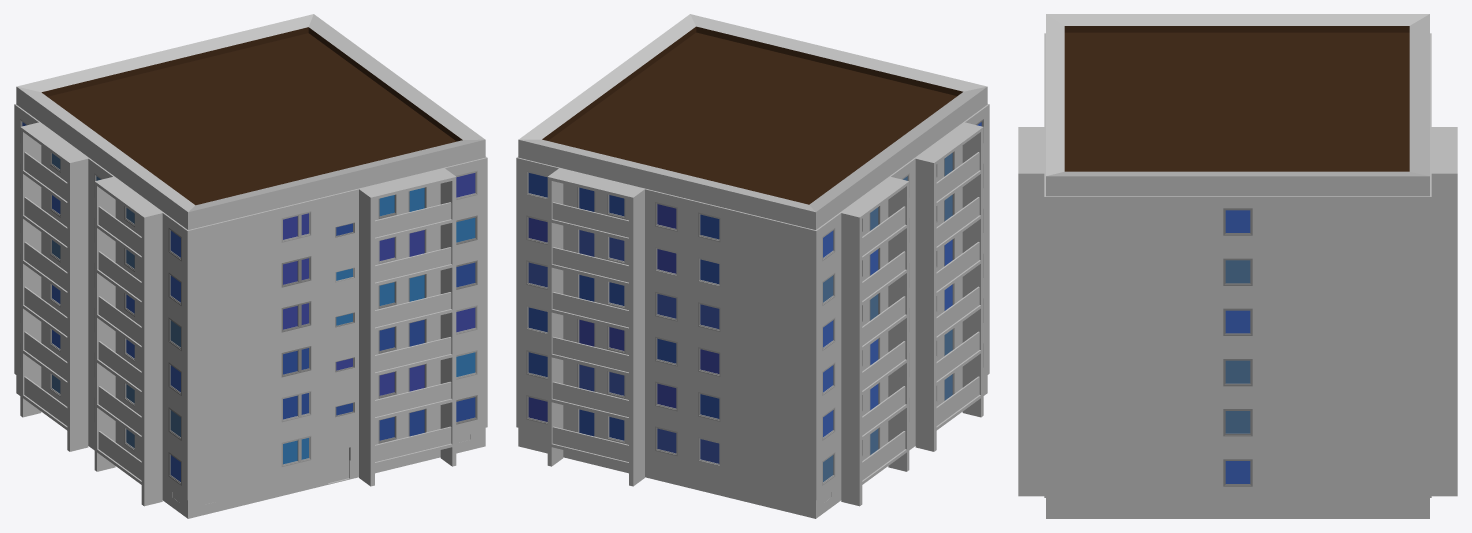
File: town3.obj
3 renders of one model, left to right at view 1: azimuth 30°, elevation 25°; view 2: azimuth 150°, elevation 25°; view 3: azimuth 270°, elevation 25°, orthographic. The views are drawn at different scales.
Parts seen in each view (by area): view 1: Dach1, F-Platte, L-Balkons, F-Platte2, F-Balkon, L-Blech-Ba, Dach2, L-Platte, Bruestung, Oben, L-Platte2, F-glas2 (+16 smaller); view 2: Dach1, B-Platte, L-Balkons, B-Platte2, B-Balkon, L-Blech-Ba, Dach2, Bruestung, L-Platte2, Oben, L-Platte, B-Glas3 (+15 smaller); view 3: R-Platte3, R-Platte2, Dach1, Dach2, R-Platte1, B-Balkon, F-Balkon, Oben, R-Unten, R-Keller, Dach, Oben2 (+4 smaller).
Boxes of the visible parts, x1,y1,x2,y2 form: Dach1: [47, 33, 456, 205]; F-Platte: [187, 183, 440, 500]; L-Balkons: [20, 122, 162, 506]; F-Platte2: [273, 158, 487, 434]; F-Balkon: [359, 168, 456, 486]; L-Blech-Ba: [24, 152, 141, 480]; Dach2: [16, 14, 484, 212]; L-Platte: [41, 145, 187, 500]; Bruestung: [375, 202, 451, 461]; Oben: [65, 122, 485, 229]; L-Platte2: [14, 104, 141, 460]; F-glas2: [283, 173, 475, 395]; Dach1: [548, 32, 956, 204]; B-Platte: [516, 158, 816, 500]; L-Balkons: [841, 122, 983, 506]; B-Platte2: [645, 189, 730, 479]; B-Balkon: [547, 168, 644, 486]; L-Blech-Ba: [862, 152, 979, 480]; Dach2: [519, 14, 987, 212]; Bruestung: [552, 202, 628, 461]; L-Platte2: [816, 145, 962, 500]; Oben: [518, 87, 987, 229]; L-Platte: [862, 104, 989, 460]; B-Glas3: [528, 173, 719, 440]; R-Platte3: [1265, 197, 1431, 497]; R-Platte2: [1044, 197, 1210, 497]; Dach1: [1064, 32, 1409, 171]; Dach2: [1046, 14, 1429, 176]; R-Platte1: [1210, 197, 1265, 497]; B-Balkon: [1431, 127, 1457, 496]; F-Balkon: [1018, 127, 1044, 496]; Oben: [1046, 176, 1429, 196]; R-Unten: [1099, 498, 1376, 518]; R-Keller: [1046, 498, 1429, 518]; Dach: [1064, 26, 1409, 32]; Oben2: [1155, 176, 1265, 196].
Bounding box in the file's own units: 1.12 × 1.02 × 1.19.
